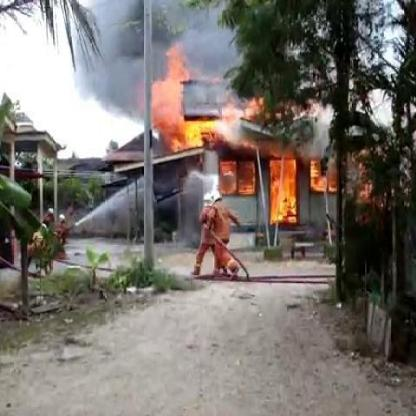fire: (150, 49, 228, 150), (268, 152, 297, 225), (219, 156, 256, 196), (311, 160, 325, 191)
smoke: (83, 3, 144, 121), (161, 2, 219, 44)
